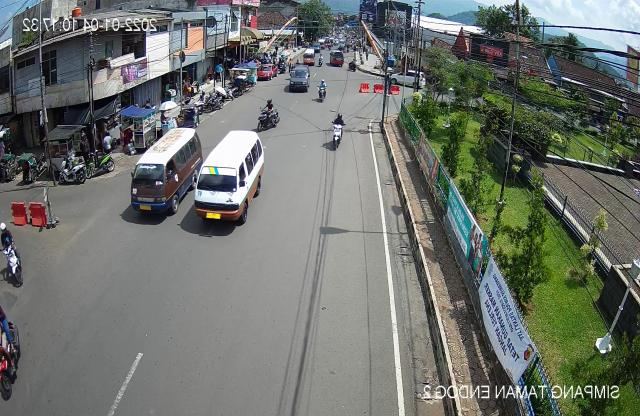Mobil: (190, 125, 270, 236), (128, 119, 203, 222), (286, 66, 310, 96)
Motor: (0, 221, 24, 289), (83, 139, 119, 180), (54, 154, 88, 191), (252, 98, 281, 132), (325, 112, 348, 152), (313, 77, 330, 103)
